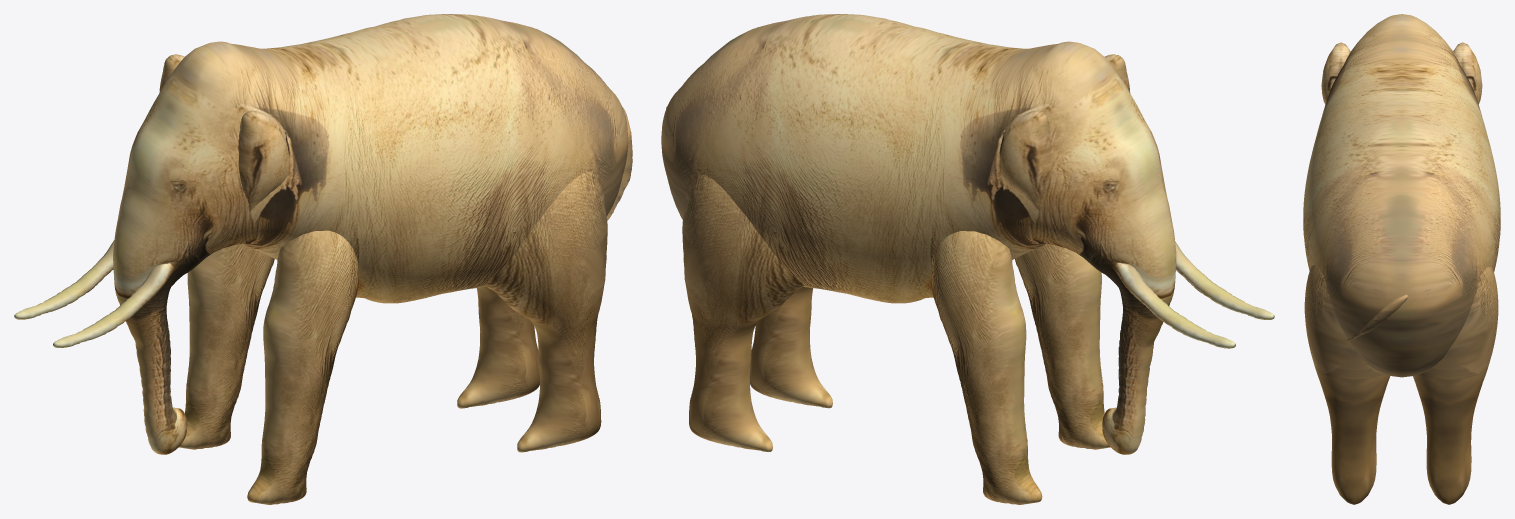
The model's file is sri-lankan-elephant.glb.
The picture shows the model from 3 angles, left to right: view 1: azimuth 30°, elevation 25°; view 2: azimuth 150°, elevation 25°; view 3: azimuth 270°, elevation 25°; orthographic projection. The views are drawn at different scales.
Parts seen in each view (by area): view 1: mm_frame (33); view 2: mm_frame (33); view 3: mm_frame (33).
Boxes of the visible parts, left/top/right/bottom form: mm_frame (33): left=14, top=14, right=632, bottom=504; mm_frame (33): left=661, top=14, right=1274, bottom=504; mm_frame (33): left=1303, top=14, right=1500, bottom=504.
Bounding box in the file's own units: 7.69 × 5.62 × 2.82.
Materials: 1 (1 with a texture image).
